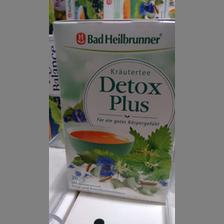Tee: (51, 16, 173, 204)
